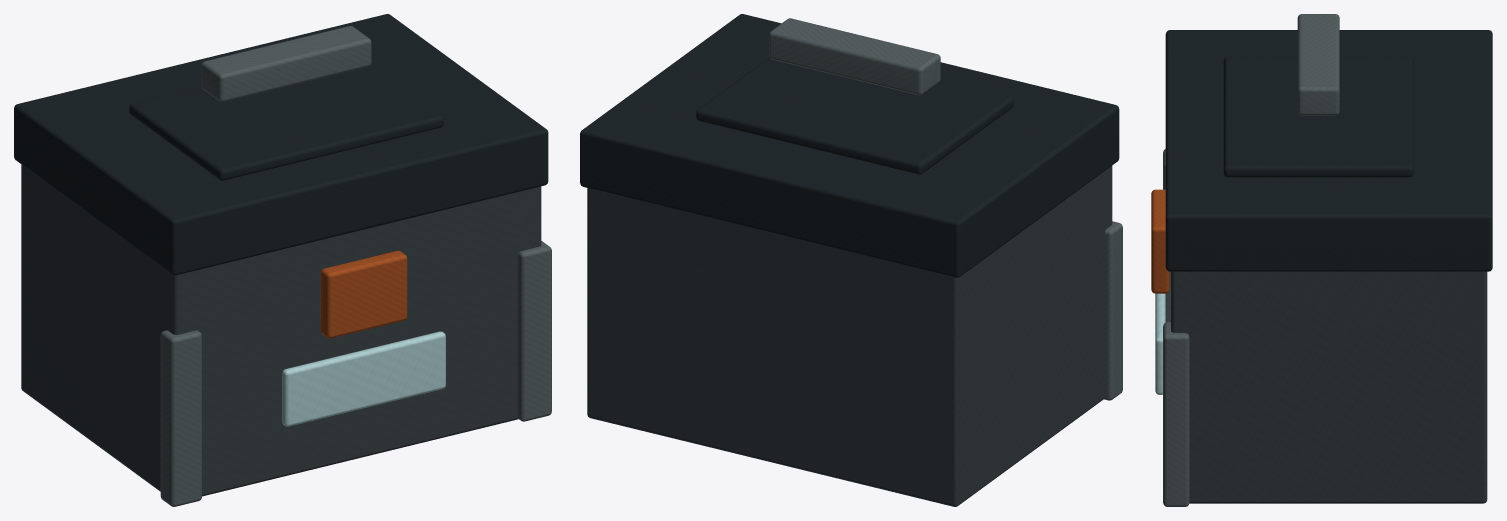
The model's file is SpecimenTransportCase.fbx.
3 views of the same model, side by side, from view 1: azimuth 30°, elevation 25°; view 2: azimuth 150°, elevation 25°; view 3: azimuth 270°, elevation 25° (orthographic).
Visible parts, largest first — view 1: SpecimenTransportCase_Mesh; view 2: SpecimenTransportCase_Mesh; view 3: SpecimenTransportCase_Mesh.
Boxes of the visible parts, x1,y1,x2,y2 form: SpecimenTransportCase_Mesh: (14,14,551,506); SpecimenTransportCase_Mesh: (580,14,1122,506); SpecimenTransportCase_Mesh: (1151,14,1492,506).
Bounding box in the file's own units: 85 × 76 × 64.75.
